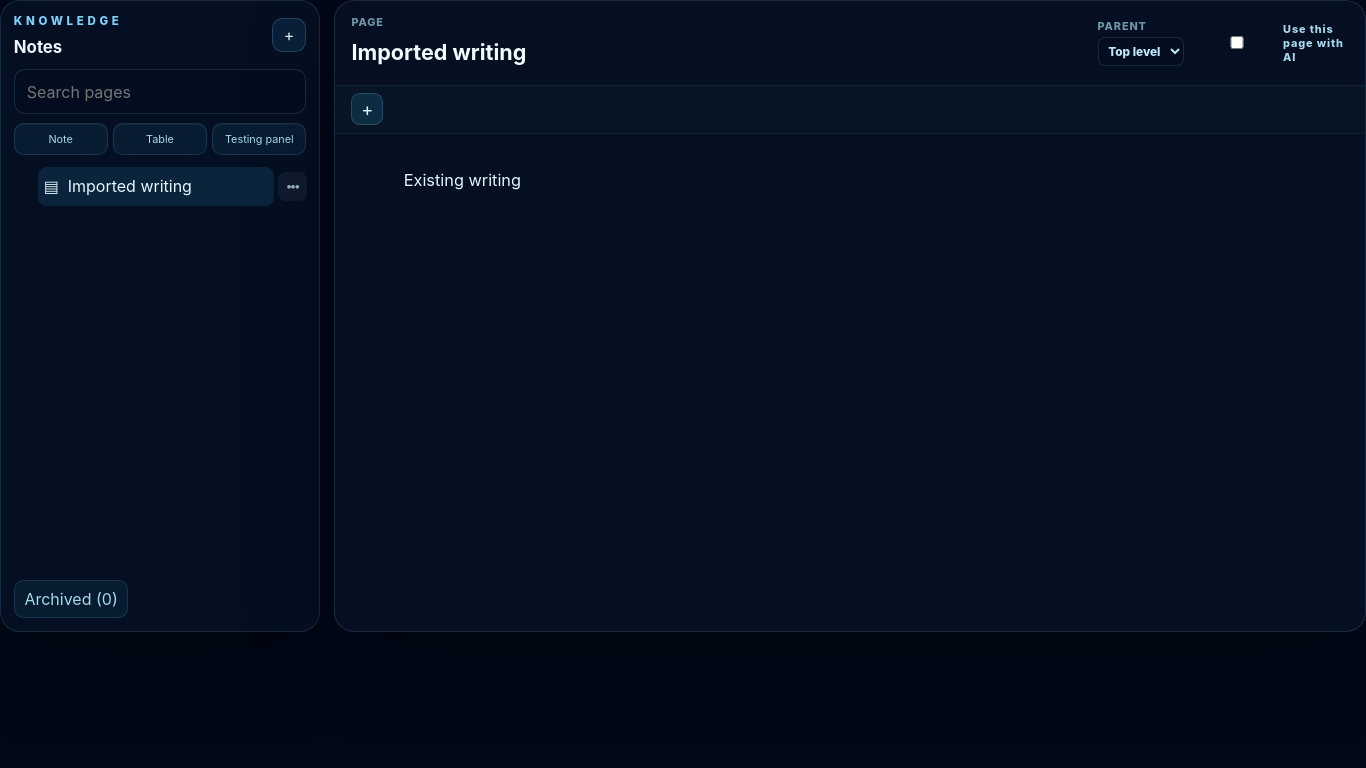
Notes workspace › preserves writing and creates a repository-valid testing collection
This screenshot has width=1366, height=768.
Expected: the field named "Imported writing content" reads "Existing writing", [404,170,521,190]
What coordinates should you click on to do the following:
click the button "Testing panel"
I would click on:
 (259, 139)
Its box is [212,123,306,155].
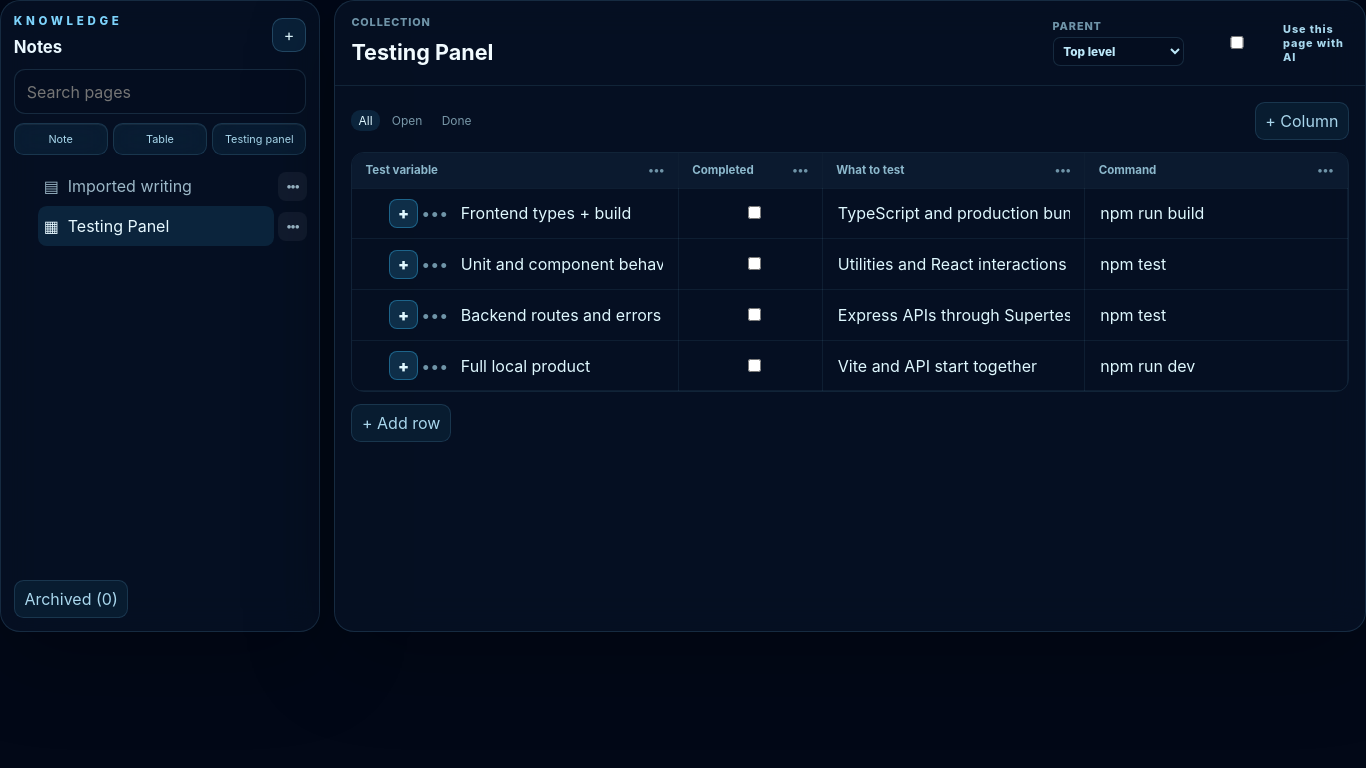
Now the field named "Page title" holds "Testing Panel", box [351,33,696,70]
Now the button "Command" is shown, box [1093,162,1162,178]
Now the number of fields showing "npm test" is 2, box [1093,246,1340,282]; [1093,297,1340,332]
